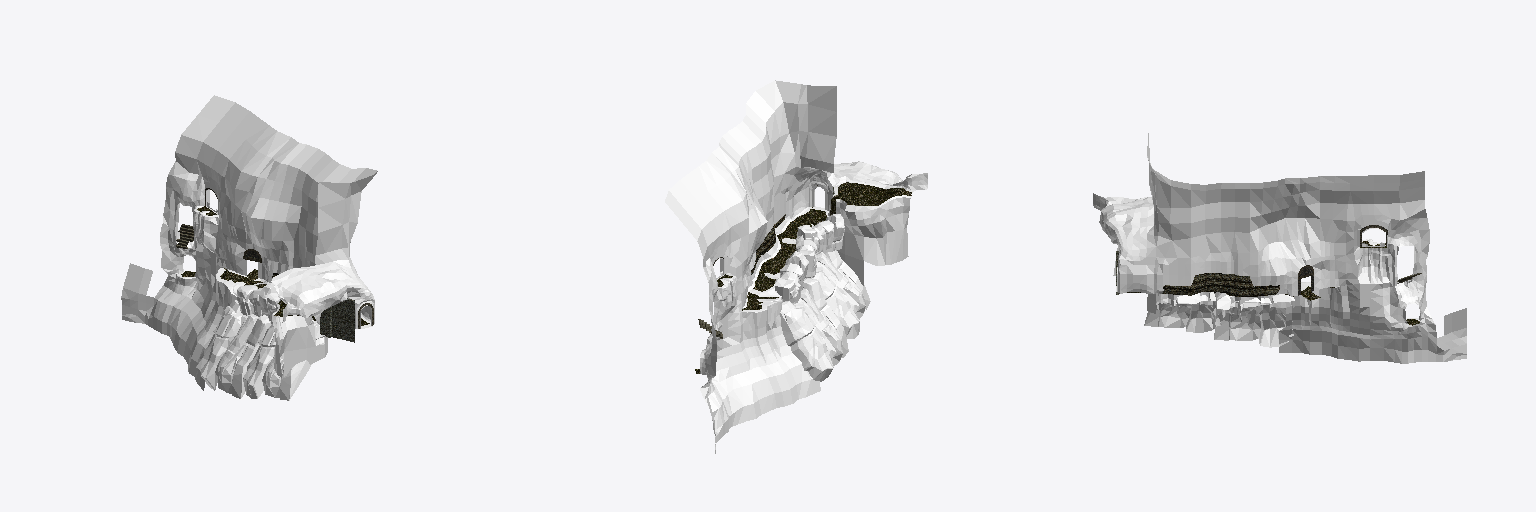
3 views of the same model, side by side, from view 1: azimuth 30°, elevation 25°; view 2: azimuth 150°, elevation 25°; view 3: azimuth 270°, elevation 25° (orthographic).
Parts seen in each view (by area): view 1: mesh8, mesh6, mesh14, mesh2, mesh11; view 2: mesh8, mesh11, mesh16, mesh6, mesh14, mesh9; view 3: mesh8, mesh6, mesh7, mesh17.
Boxes of the visible parts, x1=… form: mesh8: x1=121, y1=95, x2=377, y2=400; mesh6: x1=271, y1=260, x2=374, y2=328; mesh14: x1=193, y1=200, x2=273, y2=284; mesh2: x1=320, y1=298, x2=354, y2=342; mesh11: x1=179, y1=182, x2=372, y2=328; mesh8: x1=665, y1=80, x2=909, y2=453; mesh11: x1=700, y1=158, x2=917, y2=373; mesh16: x1=749, y1=182, x2=911, y2=307; mesh6: x1=794, y1=161, x2=927, y2=212; mesh14: x1=715, y1=216, x2=792, y2=330; mesh9: x1=717, y1=223, x2=811, y2=310; mesh8: x1=1113, y1=133, x2=1466, y2=363; mesh6: x1=1093, y1=193, x2=1156, y2=293; mesh7: x1=1162, y1=273, x2=1279, y2=296; mesh17: x1=1154, y1=261, x2=1283, y2=294.
Size of the model in its own units: 20.39 by 35.5 by 49.11.
18 materials, 8 textured.